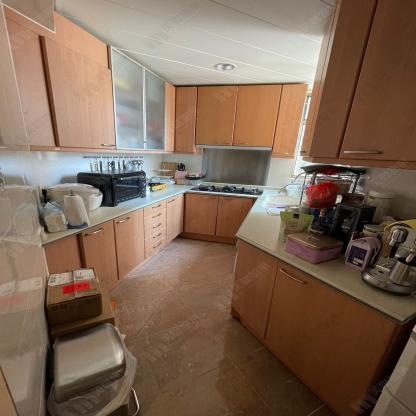Cupboard: (37, 192, 405, 416), (301, 0, 416, 169)
Exhaust Hood: (195, 145, 273, 151)
Oven: (76, 169, 146, 207)
Sink: (261, 195, 301, 208)
Stove: (189, 184, 263, 196)
